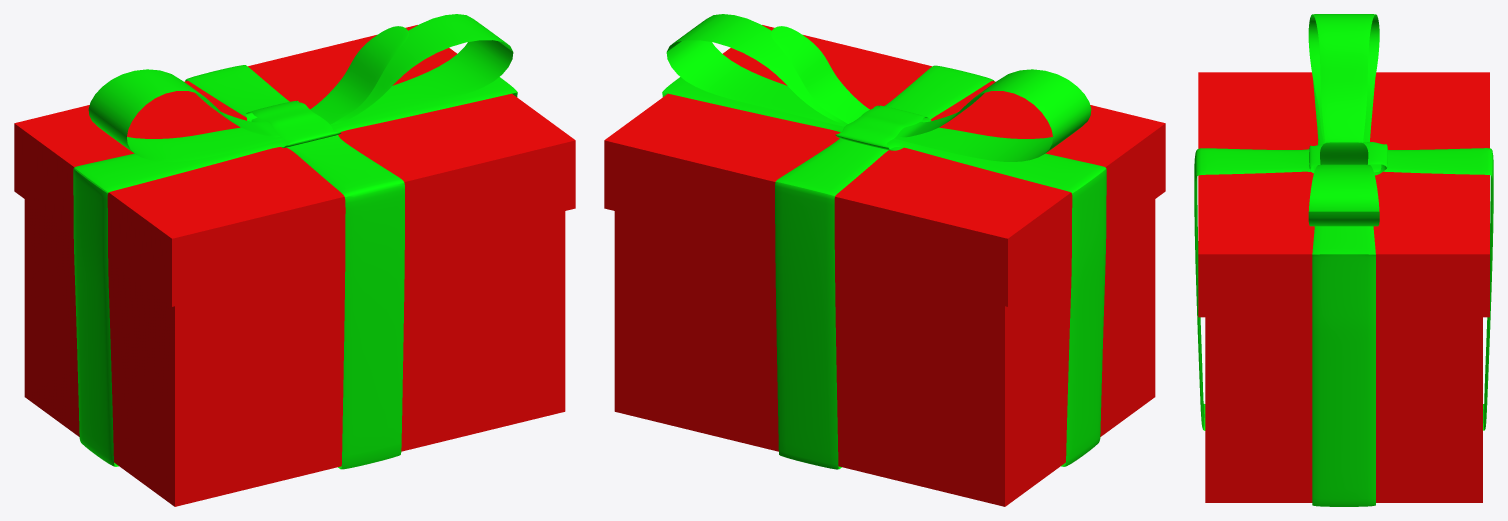
The model's file is Present.fbx.
The picture shows the model from 3 angles, left to right: view 1: azimuth 30°, elevation 25°; view 2: azimuth 150°, elevation 25°; view 3: azimuth 270°, elevation 25°; orthographic projection. The views are drawn at different scales.
Parts seen in each view (by area): view 1: Box; view 2: Box; view 3: Box.
Boxes of the visible parts, bbox=[...] form: Box: bbox=[14, 14, 575, 506]; Box: bbox=[604, 14, 1165, 506]; Box: bbox=[1194, 14, 1493, 506].
Size of the model in its own units: 31.77 by 26.56 by 21.56.
